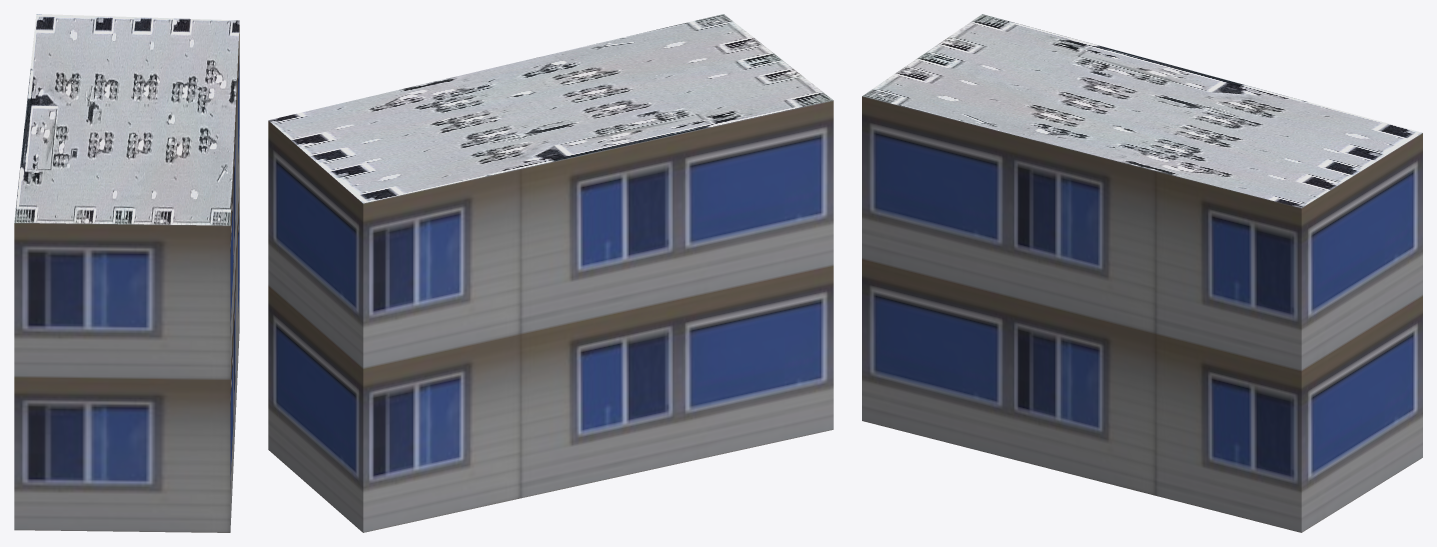
File: ResTex__3325.fbx
The picture shows the model from 3 angles, left to right: view 1: azimuth 30°, elevation 25°; view 2: azimuth 150°, elevation 25°; view 3: azimuth 270°, elevation 25°; orthographic projection. The views are drawn at different scales.
Parts seen in each view (by area): view 1: CityEngineMaterial_23_m, CityEngineMaterial_2_m; view 2: CityEngineMaterial_23_m, CityEngineMaterial_2_m; view 3: CityEngineMaterial_23_m, CityEngineMaterial_2_m.
Part boxes in pixels (<box>): CityEngineMaterial_23_m: <box>14,26,239,532</box>; CityEngineMaterial_2_m: <box>14,14,239,225</box>; CityEngineMaterial_23_m: <box>268,100,833,532</box>; CityEngineMaterial_2_m: <box>268,14,833,203</box>; CityEngineMaterial_23_m: <box>862,96,1422,532</box>; CityEngineMaterial_2_m: <box>862,14,1422,207</box>.
Bounding box in the file's own units: 7.69 × 6 × 9.39.
2 materials, 2 textured.
